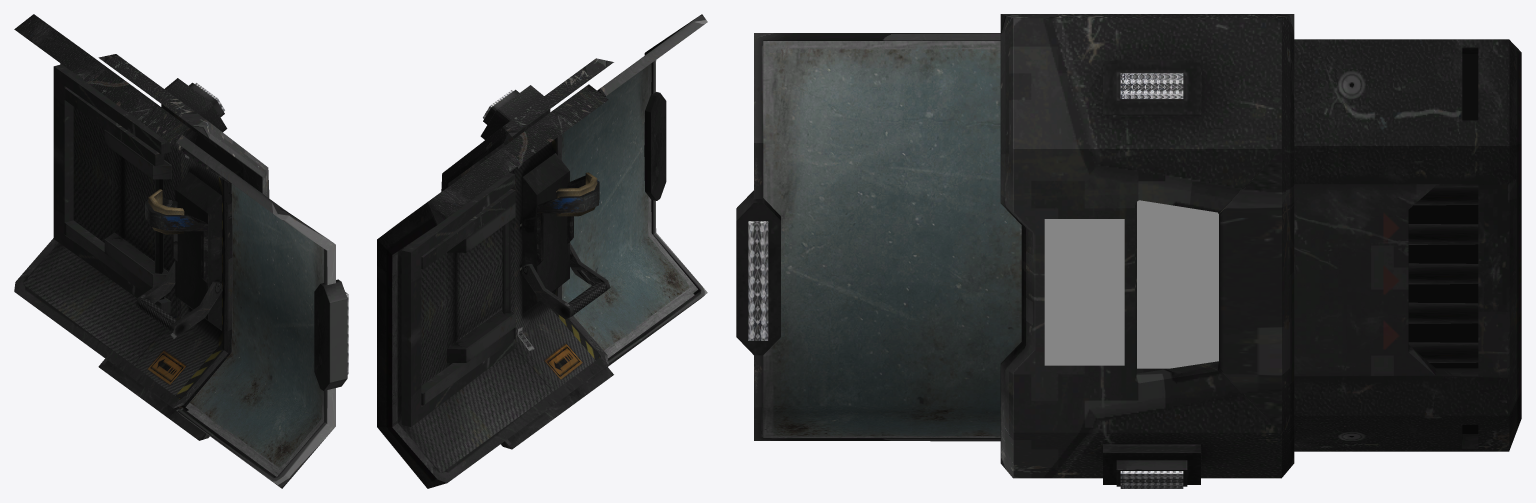
The model's file is t6_wpn_shield_carry_world_LOD1.obj.
3 views of the same model, side by side, from view 1: azimuth 30°, elevation 25°; view 2: azimuth 150°, elevation 25°; view 3: azimuth 270°, elevation 25° (orthographic). The views are drawn at different scales.
Visible parts, largest first — view 1: mtl_t6_wpn_shield, mtl_t6_wpn_shield_glass, mtl_t6_wpn_shield_camo1, mtl_t6_wpn_shield_nodecal, mtl_t6_wpn_shield_camo3; view 2: mtl_t6_wpn_shield, mtl_t6_wpn_shield_glass, mtl_t6_wpn_shield_camo1, mtl_t6_wpn_shield_nodecal, mtl_t6_wpn_shield_camo3; view 3: mtl_t6_wpn_shield_camo1, mtl_t6_wpn_shield_glass, mtl_t6_wpn_shield_camo2, mtl_t6_wpn_shield, mtl_player_icon_world, mtl_clan_tag_world.
Boxes of the visible parts, x1,y1,x2,y2 form: mtl_t6_wpn_shield: (23,64,348,488); mtl_t6_wpn_shield_glass: (185,184,324,476); mtl_t6_wpn_shield_camo1: (14,14,269,440); mtl_t6_wpn_shield_nodecal: (98,104,262,440); mtl_t6_wpn_shield_camo3: (138,203,189,331); mtl_t6_wpn_shield: (397,14,707,473); mtl_t6_wpn_shield_glass: (562,63,697,358); mtl_t6_wpn_shield_camo1: (377,58,613,488); mtl_t6_wpn_shield_nodecal: (448,109,613,449); mtl_t6_wpn_shield_camo3: (560,185,607,314); mtl_t6_wpn_shield_camo1: (1000,14,1521,477); mtl_t6_wpn_shield_glass: (763,41,1021,437); mtl_t6_wpn_shield_camo2: (1013,18,1509,478); mtl_t6_wpn_shield: (736,33,1478,488); mtl_player_icon_world: (1137,200,1218,368); mtl_clan_tag_world: (1044,219,1124,365).
Bounding box in the file's own units: 26.54 × 87.16 × 135.
